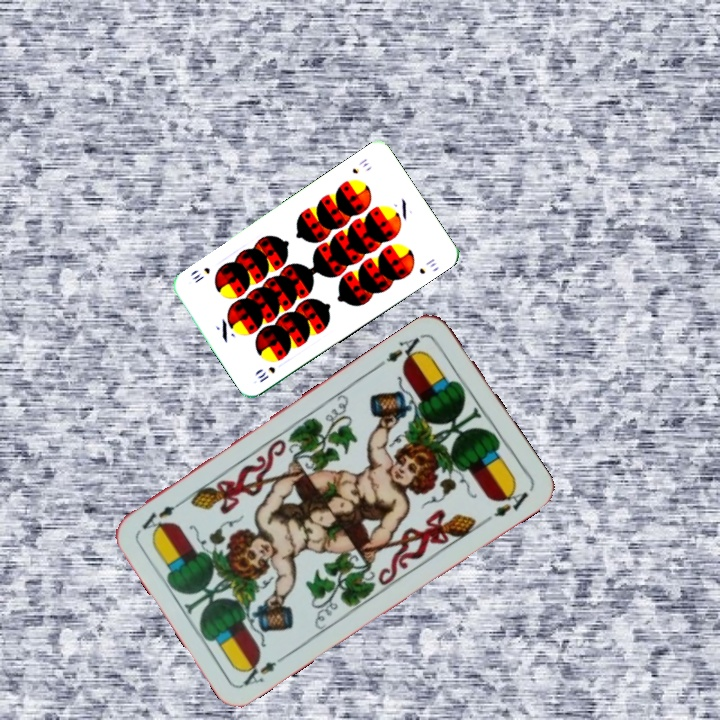EA: (236, 650, 291, 689), (382, 330, 427, 369)
S10: (254, 362, 278, 385), (348, 154, 371, 177)
